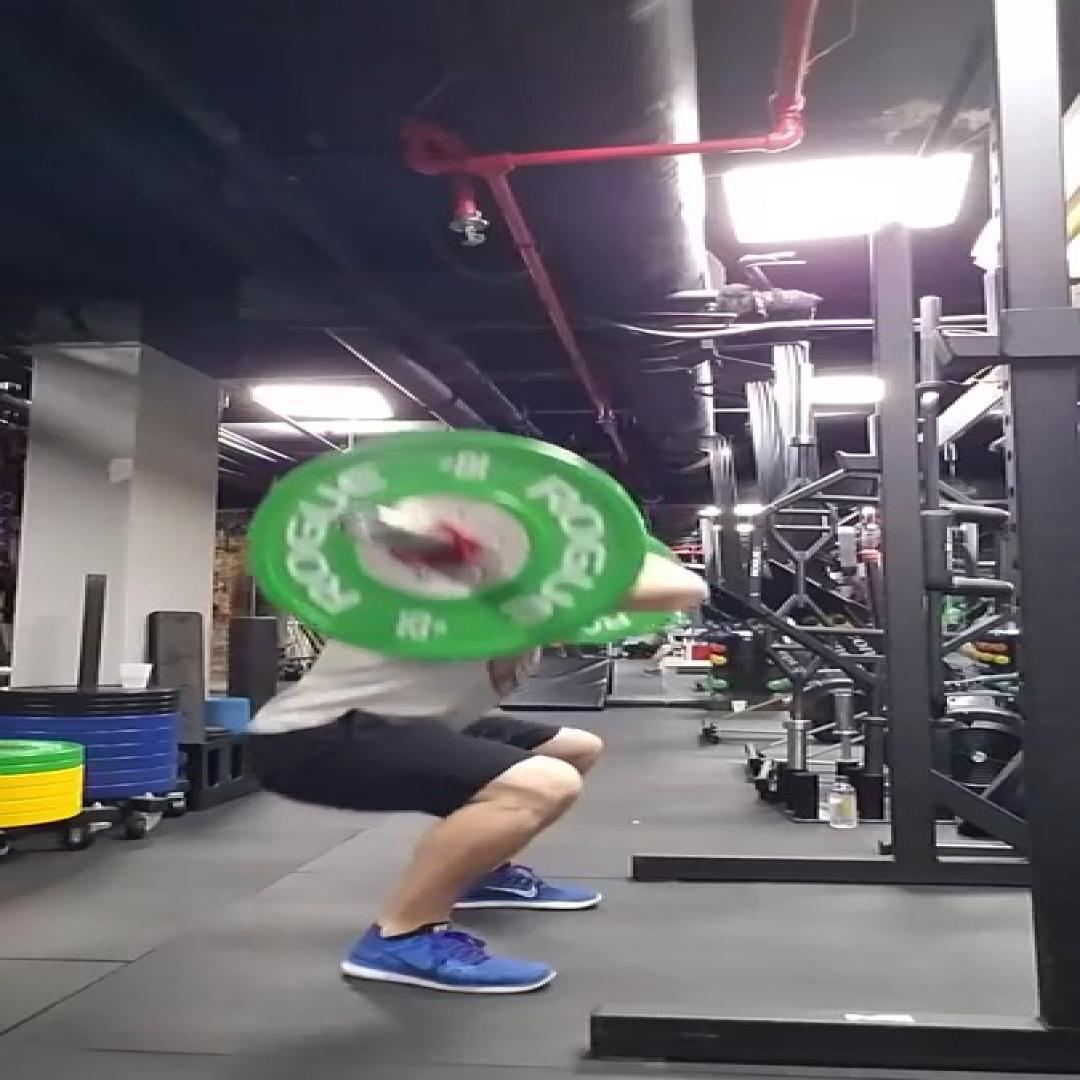Bar: (333, 501, 394, 543)
Barbell: (244, 428, 652, 662)
